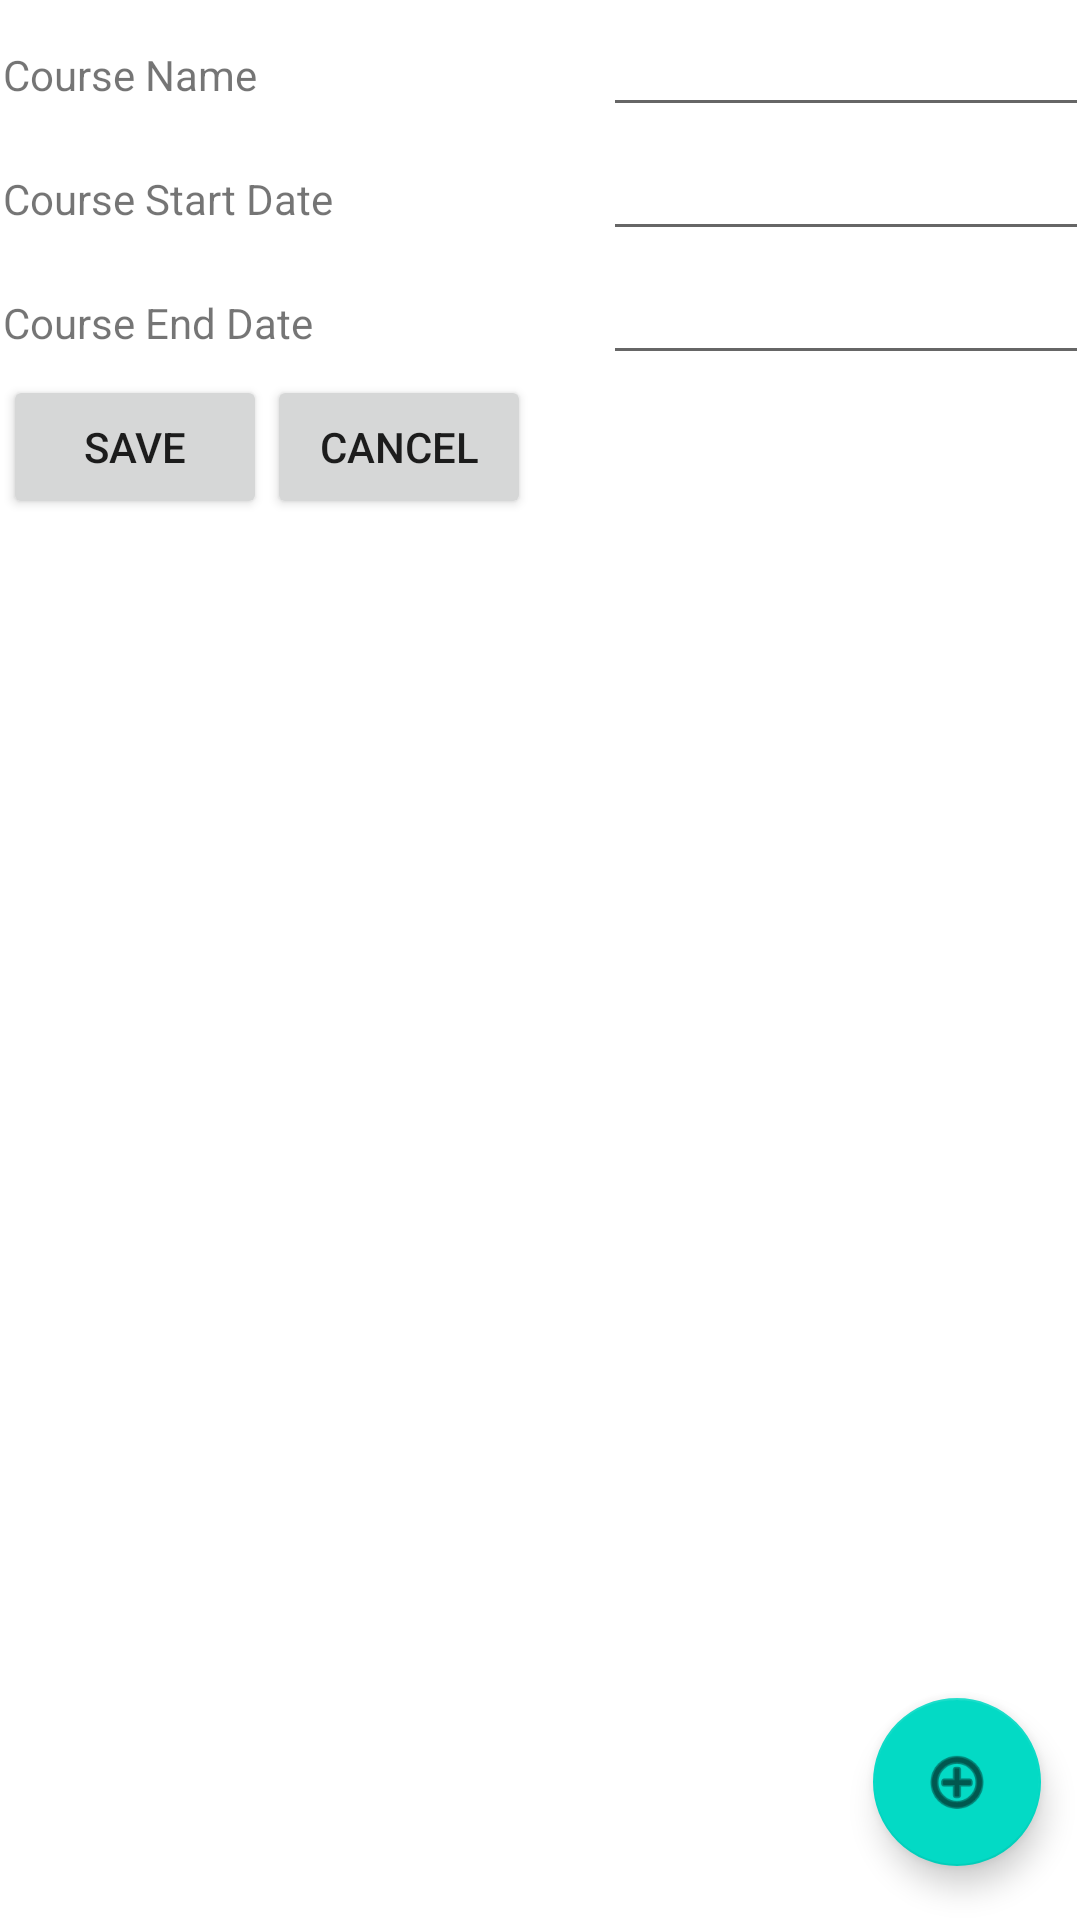

Named icons in this screenshot (1080×1920) and their centers, (x=x, y=y):
add: (x=957, y=1782)
